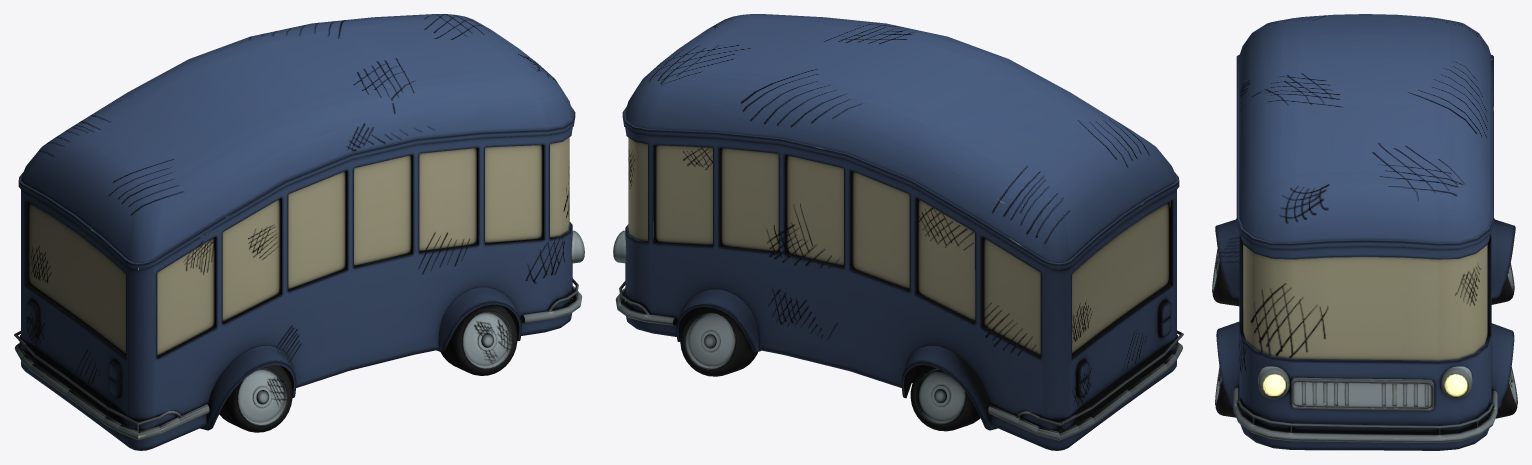
The model's file is Bus.fbx.
The picture shows the model from 3 angles, left to right: view 1: azimuth 30°, elevation 25°; view 2: azimuth 150°, elevation 25°; view 3: azimuth 270°, elevation 25°; orthographic projection. The views are drawn at different scales.
Parts seen in each view (by area): view 1: Bus; view 2: Bus; view 3: Bus.
Boxes of the visible parts, x1,y1,x2,y2 form: Bus: (14, 14, 584, 450); Bus: (613, 14, 1183, 450); Bus: (1212, 14, 1517, 450).
Bounding box in the file's own units: 713 × 423 × 392.
